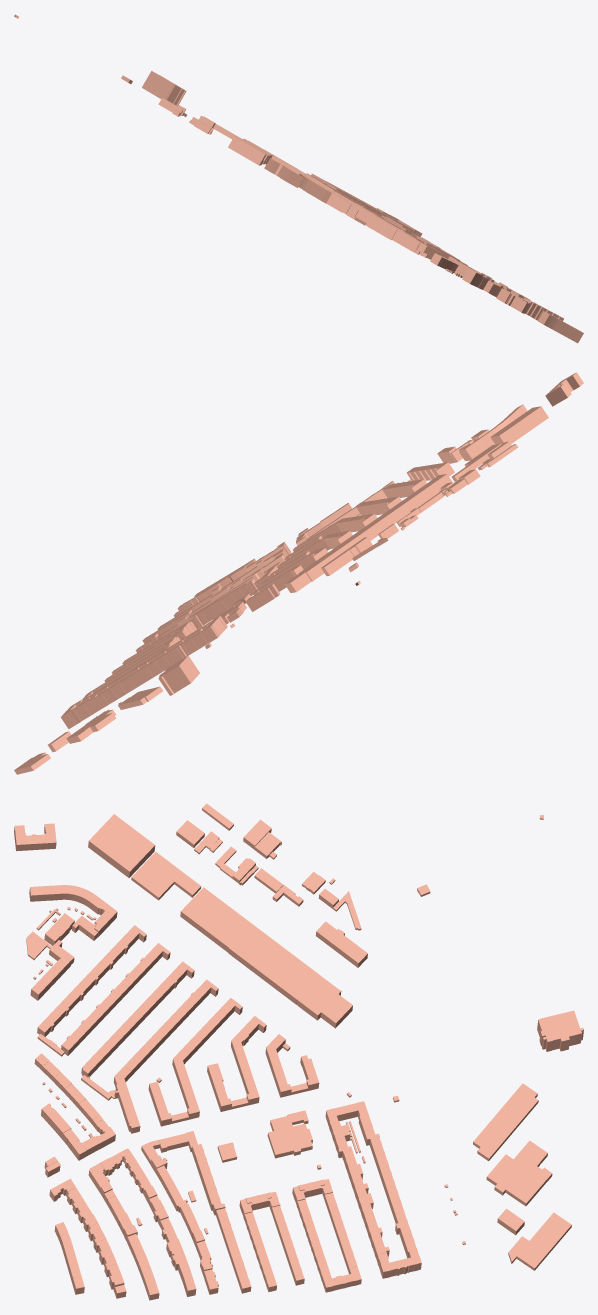
3 renders of one model, top to bottom at view 1: azimuth 30°, elevation 25°; view 2: azimuth 150°, elevation 25°; view 3: azimuth 270°, elevation 25°, orthographic. The views are drawn at different scales.
Bounding box in the file's own units: 518 × 384 × 640.
